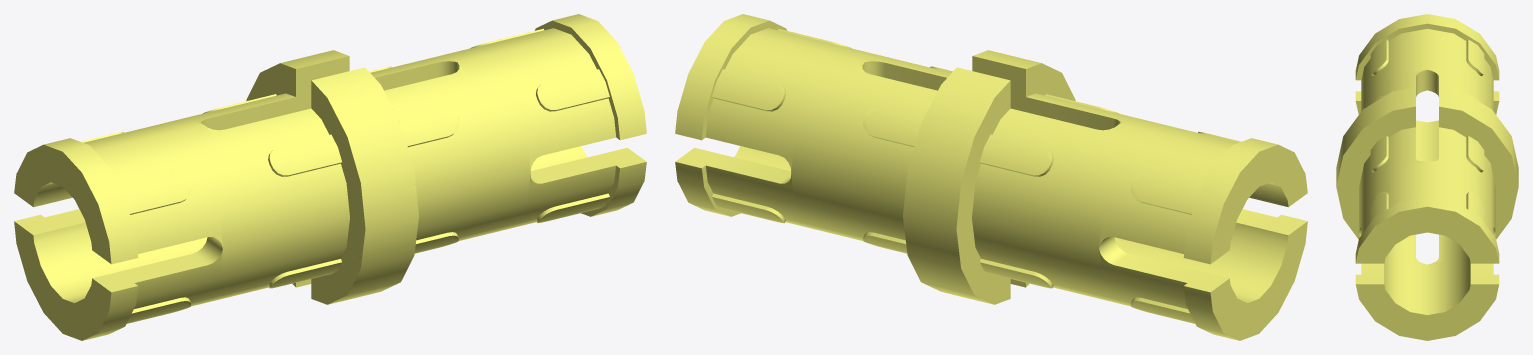
3 views of the same model, side by side, from view 1: azimuth 30°, elevation 25°; view 2: azimuth 150°, elevation 25°; view 3: azimuth 270°, elevation 25° (orthographic). The views are drawn at different scales.
Parts seen in each view (by area): view 1: 2780.dat; view 2: 2780.dat; view 3: 2780.dat.
Part boxes in pixels (left/top/right/bottom): 2780.dat: left=14, top=14, right=646, bottom=340; 2780.dat: left=675, top=14, right=1307, bottom=340; 2780.dat: left=1336, top=14, right=1518, bottom=340.
Size of the model in its own units: 0.016 by 0.00624 by 0.0064.
